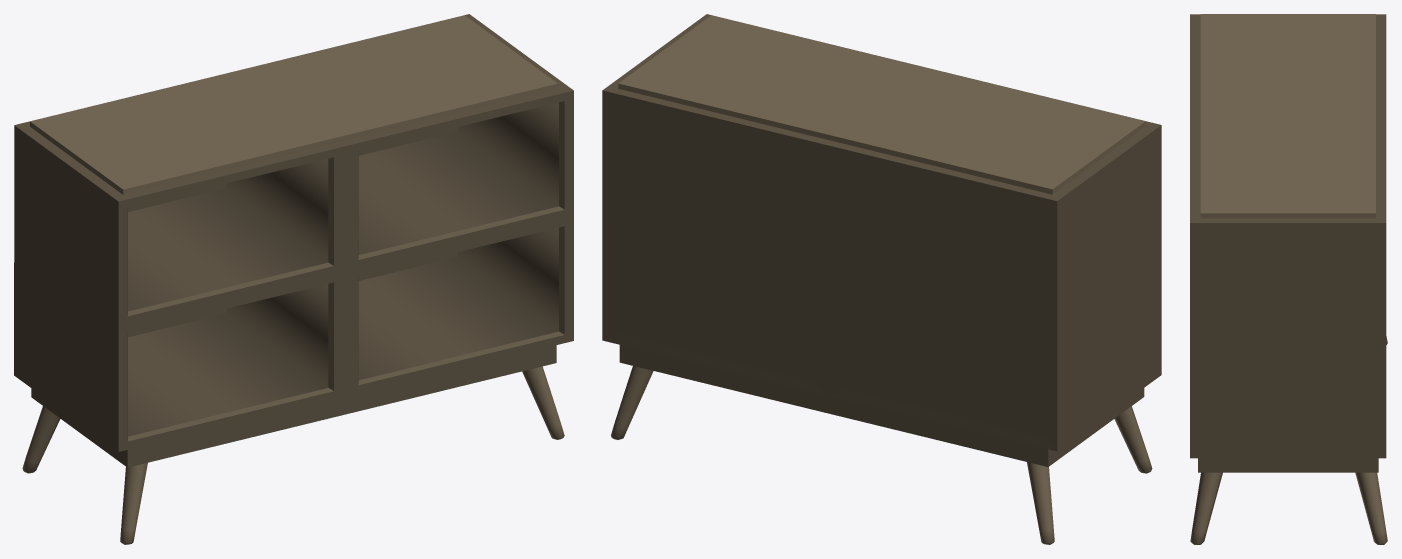
The model's file is Drawer_body.glb.
3 views of the same model, side by side, from view 1: azimuth 30°, elevation 25°; view 2: azimuth 150°, elevation 25°; view 3: azimuth 270°, elevation 25° (orthographic). The views are drawn at different scales.
Visible parts, largest first — view 1: Drawer_4; view 2: Drawer_4; view 3: Drawer_4.
Part boxes in pixels (box(x1,y1,x2,y2)): Drawer_4: box(14, 14, 573, 544); Drawer_4: box(602, 14, 1161, 544); Drawer_4: box(1190, 14, 1387, 544).
Bounding box in the file's own units: 2.79 × 2.07 × 1.12.
